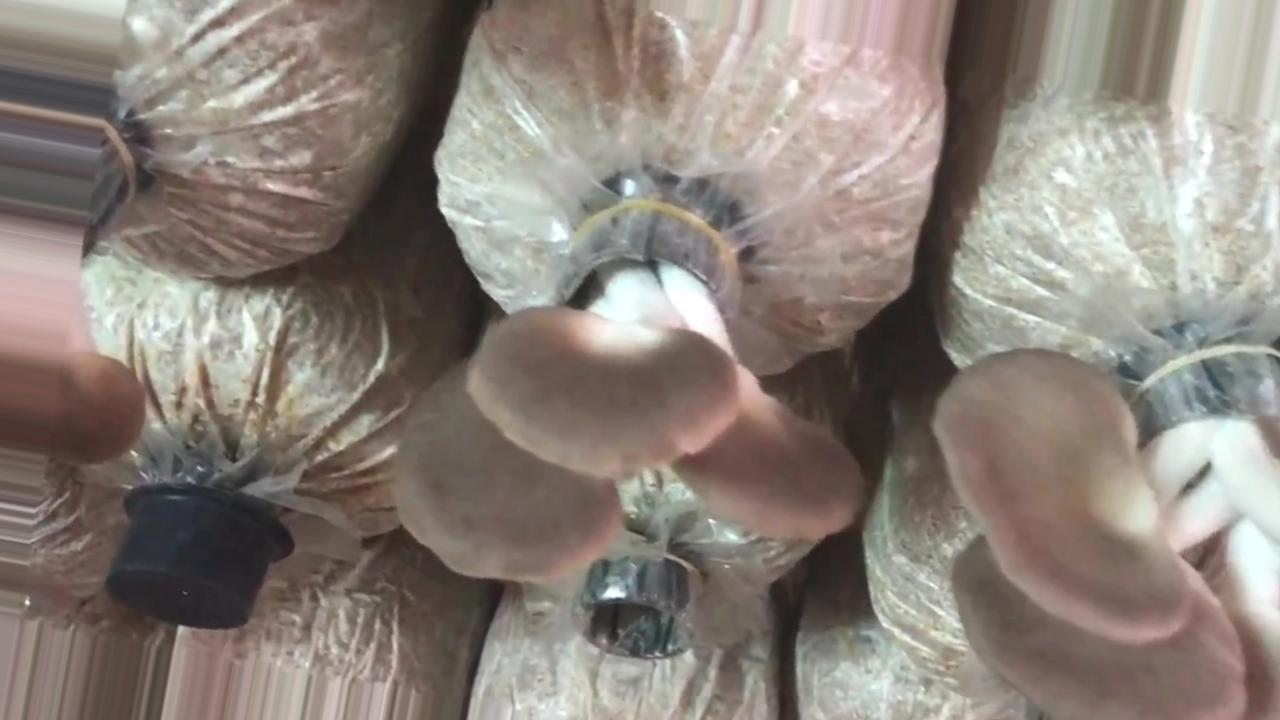nam: (394, 207, 859, 582), (932, 351, 1277, 719), (1, 68, 159, 462)
